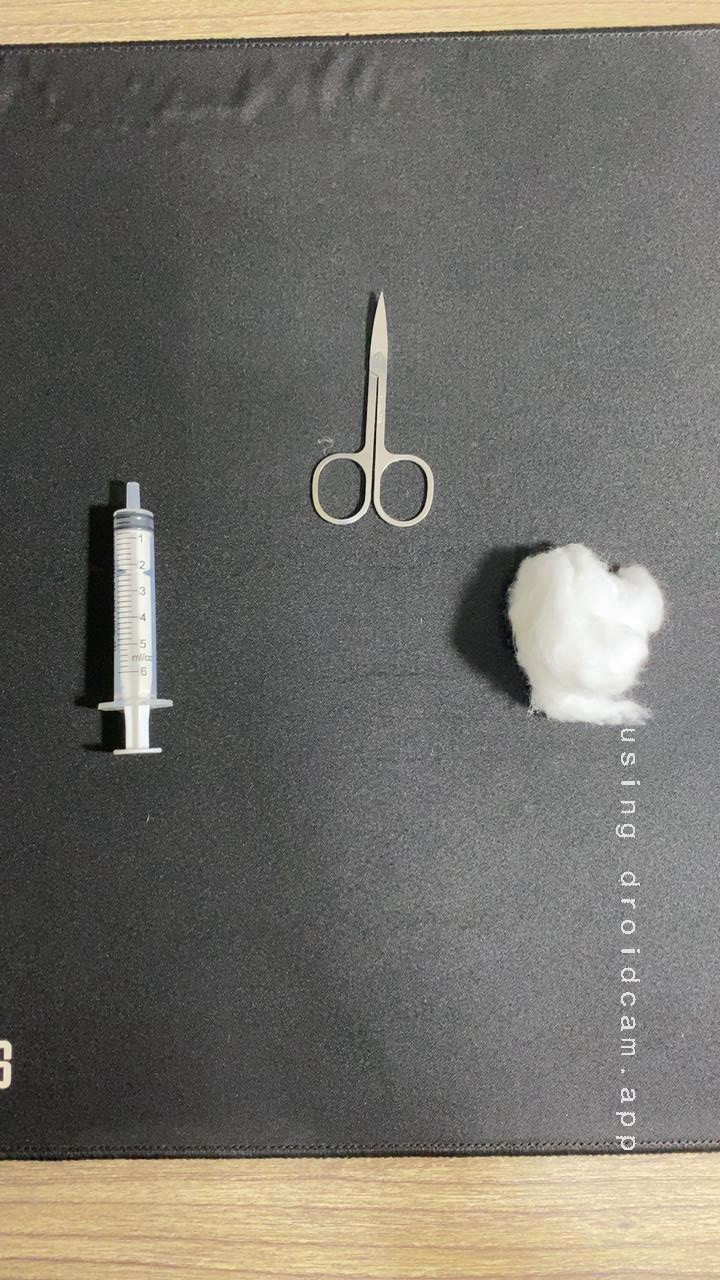cotton: (473, 525, 694, 747)
scissor: (285, 273, 457, 537)
syringe: (62, 463, 202, 774)
